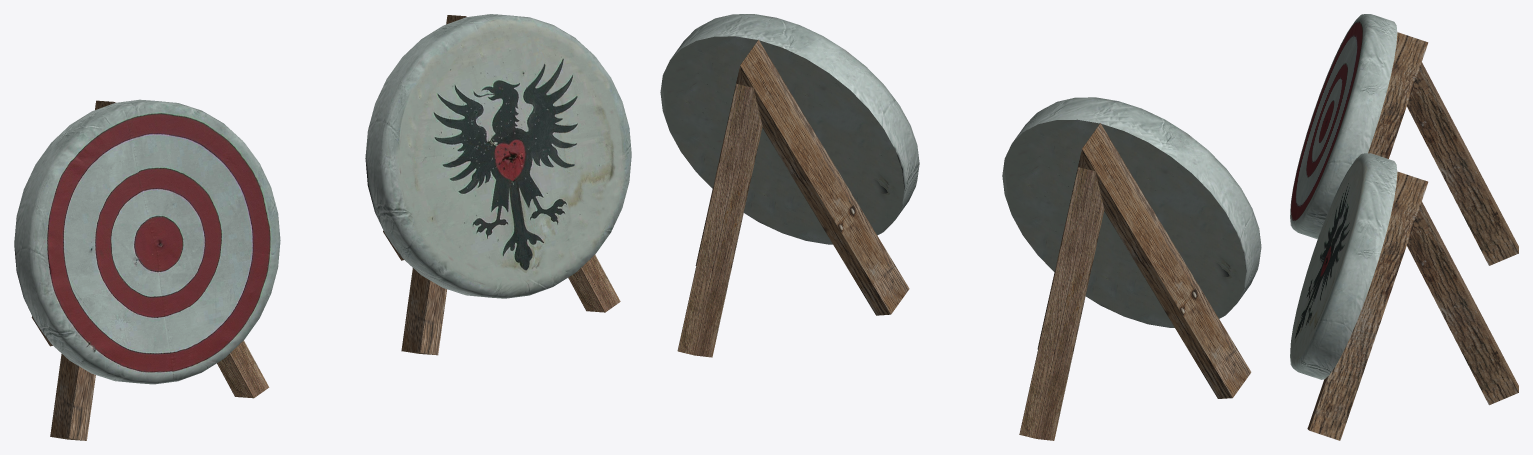
File: SM_Targets_01.FBX
3 views of the same model, side by side, from view 1: azimuth 30°, elevation 25°; view 2: azimuth 150°, elevation 25°; view 3: azimuth 270°, elevation 25° (orthographic). The views are drawn at different scales.
Parts seen in each view (by area): view 1: SM_Targets_01; view 2: SM_Targets_01; view 3: SM_Targets_01.
Boxes of the visible parts, x1,y1,x2,y2 form: SM_Targets_01: [14, 14, 631, 440]; SM_Targets_01: [660, 14, 1261, 440]; SM_Targets_01: [1290, 14, 1518, 440].
Size of what is drawn, in the model's own units: 272 by 111 by 130.
